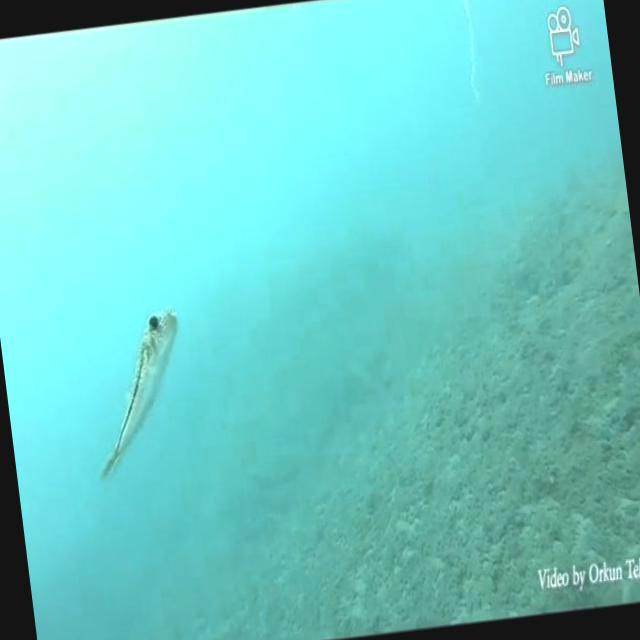Balon Baligi: (78, 303, 198, 482)
